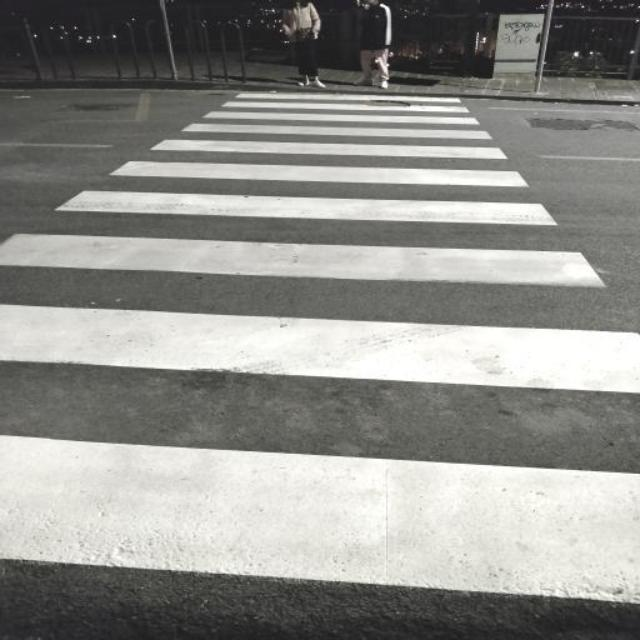sidewalk: (0, 81, 640, 640)
